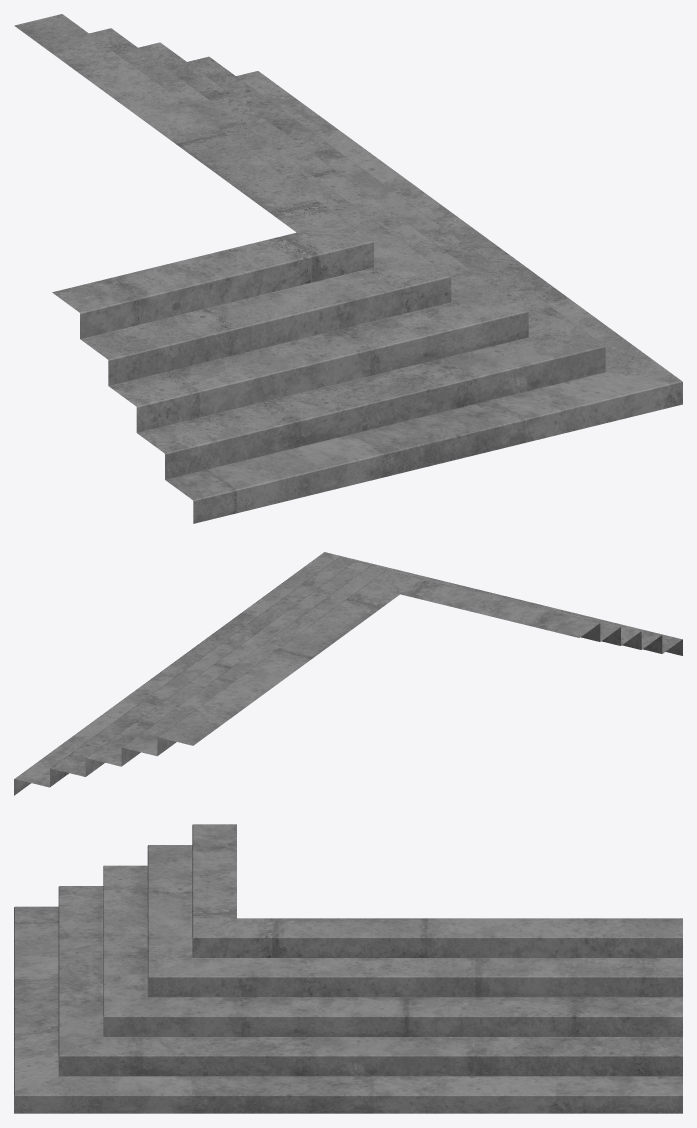
Rendered from SM_Steps_06.fbx.
3 renders of one model, top to bottom at view 1: azimuth 30°, elevation 25°; view 2: azimuth 150°, elevation 25°; view 3: azimuth 270°, elevation 25°, orthographic. The views are drawn at different scales.
Parts seen in each view (by area): view 1: SM_Steps_08; view 2: SM_Steps_08; view 3: SM_Steps_08.
Part boxes in pixels (x1,y1,x2,y2): SM_Steps_08: [14, 14, 682, 523]; SM_Steps_08: [14, 552, 682, 795]; SM_Steps_08: [14, 824, 682, 1113].
Bounding box in the file's own units: 400 × 100 × 600.
